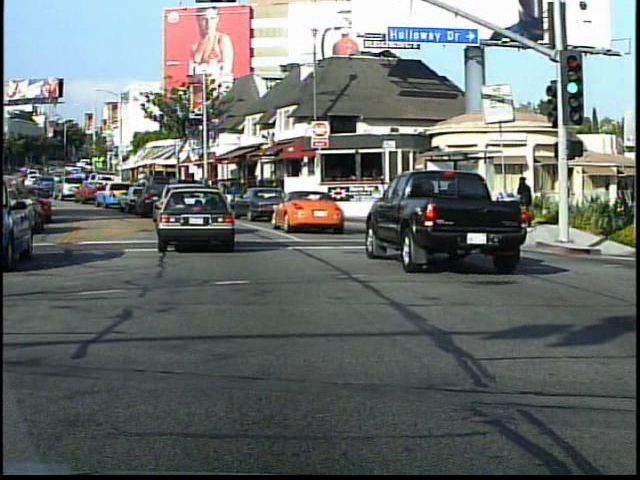person: (609, 191, 631, 262), (513, 175, 537, 233)
